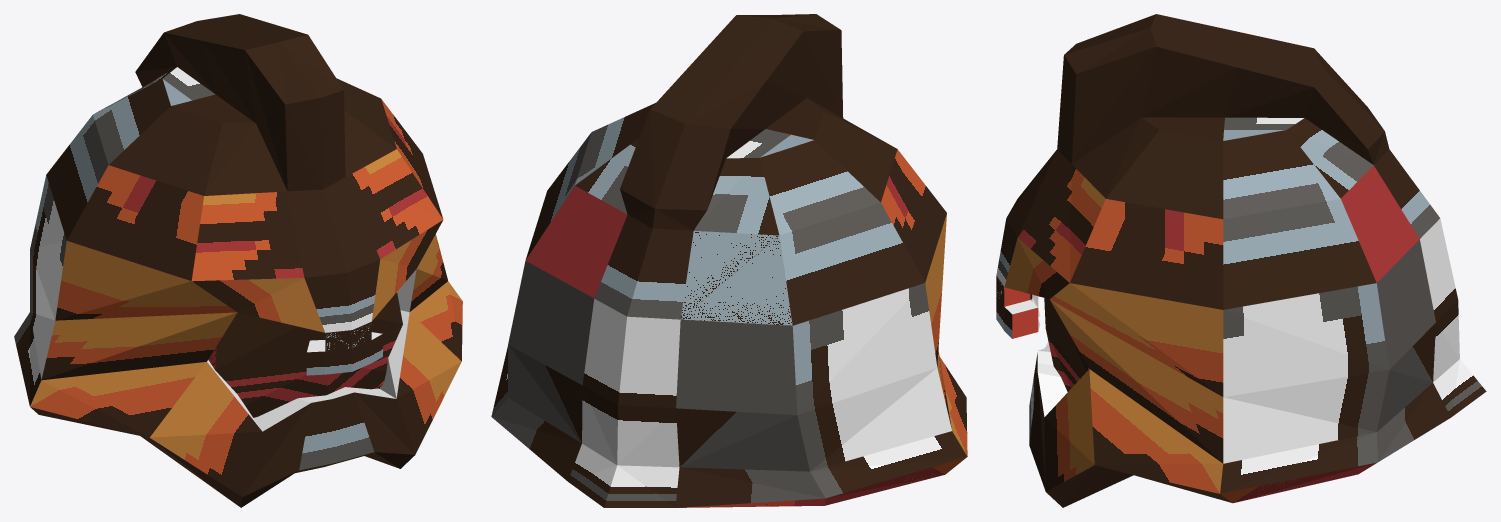
3 renders of one model, left to right at view 1: azimuth 30°, elevation 25°; view 2: azimuth 150°, elevation 25°; view 3: azimuth 270°, elevation 25°, orthographic. The views are drawn at different scales.
Visible parts, largest first — view 1: Sphere.012_Sphere.014; view 2: Sphere.012_Sphere.014; view 3: Sphere.012_Sphere.014.
Part boxes in pixels (bbox=[...]): Sphere.012_Sphere.014: bbox=[14, 14, 462, 507]; Sphere.012_Sphere.014: bbox=[491, 14, 967, 507]; Sphere.012_Sphere.014: bbox=[996, 14, 1486, 507].
Bounding box in the file's own units: 0.6203 × 0.5696 × 0.5763.
